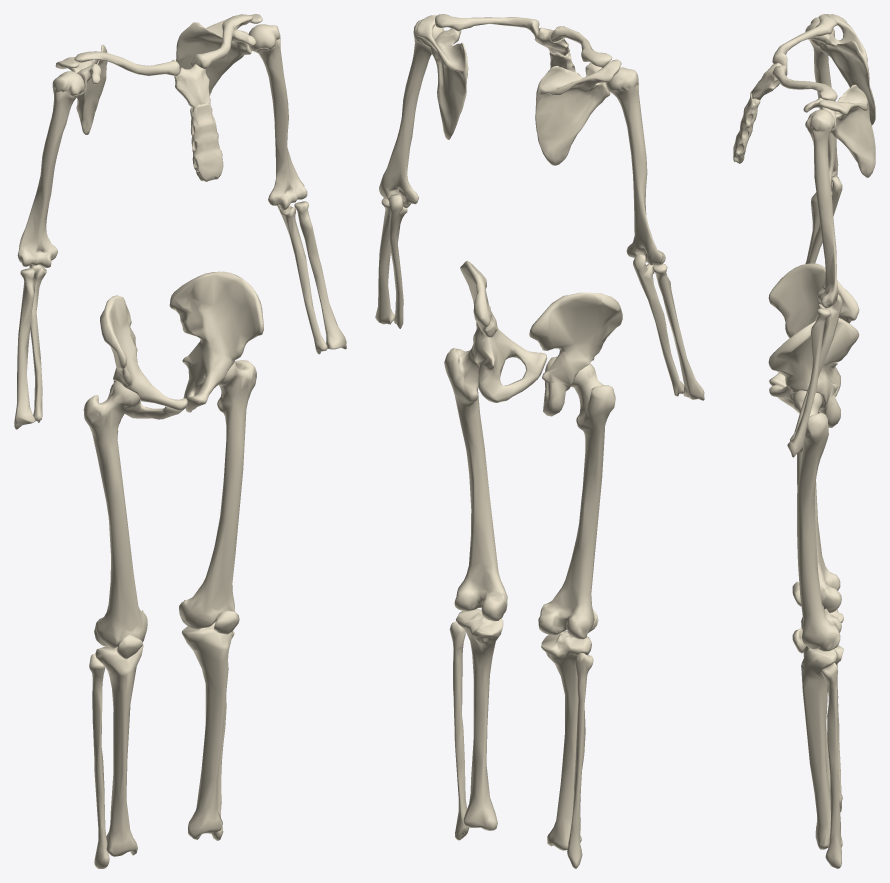
Rendered from zanatomy-limbbones.glb.
3 views of the same model, side by side, from view 1: azimuth 30°, elevation 25°; view 2: azimuth 150°, elevation 25°; view 3: azimuth 270°, elevation 25° (orthographic). The views are drawn at different scales.
Parts seen in each view (by area): view 1: za_hipbone_1, za_femur_2, za_femur_1, za_tibia_1, za_tibia_2, za_humerus_2, za_hipbone_2, za_humerus_1, za_scapula_1, za_fibula_2, za_sternum_1, za_radius_2 (+7 smaller); view 2: za_femur_2, za_femur_1, za_hipbone_2, za_scapula_2, za_tibia_1, za_hipbone_1, za_tibia_2, za_humerus_2, za_humerus_1, za_scapula_1, za_fibula_1, za_fibula_2 (+6 smaller); view 3: za_femur_1, za_hipbone_1, za_tibia_1, za_hipbone_2, za_humerus_1, za_scapula_1, za_scapula_2, za_fibula_1, za_radius_1, za_femur_2, za_humerus_2, za_ulna_1 (+7 smaller).
Boxes of the visible parts, x1=… form: za_hipbone_1: x1=169, y1=271, x2=263, y2=412; za_femur_2: x1=83, y1=381, x2=147, y2=648; za_femur_1: x1=179, y1=360, x2=256, y2=628; za_tibia_1: x1=181, y1=621, x2=232, y2=839; za_tibia_2: x1=95, y1=645, x2=143, y2=856; za_humerus_2: x1=17, y1=71, x2=84, y2=267; za_hipbone_2: x1=100, y1=295, x2=187, y2=419; za_humerus_1: x1=248, y1=24, x2=307, y2=210; za_scapula_1: x1=176, y1=14, x2=262, y2=95; za_fibula_2: x1=89, y1=654, x2=109, y2=868; za_sternum_1: x1=190, y1=102, x2=223, y2=181; za_radius_2: x1=14, y1=268, x2=35, y2=429; za_femur_2: x1=538, y1=363, x2=615, y2=639; za_femur_1: x1=444, y1=344, x2=507, y2=621; za_hipbone_2: x1=529, y1=292, x2=622, y2=416; za_scapula_2: x1=535, y1=59, x2=621, y2=165; za_tibia_1: x1=456, y1=609, x2=503, y2=830; za_hipbone_1: x1=460, y1=260, x2=547, y2=402; za_tibia_2: x1=541, y1=631, x2=591, y2=850; za_humerus_2: x1=606, y1=67, x2=665, y2=265; za_humerus_1: x1=379, y1=19, x2=444, y2=207; za_scapula_1: x1=416, y1=15, x2=468, y2=139; za_fibula_1: x1=449, y1=621, x2=468, y2=840; za_fibula_2: x1=567, y1=653, x2=593, y2=868; za_femur_1: x1=792, y1=390, x2=841, y2=651; za_hipbone_1: x1=768, y1=318, x2=859, y2=427; za_tibia_1: x1=801, y1=645, x2=843, y2=849; za_hipbone_2: x1=768, y1=263, x2=859, y2=396; za_humerus_1: x1=805, y1=109, x2=838, y2=308; za_scapula_1: x1=803, y1=84, x2=875, y2=177; za_scapula_2: x1=808, y1=14, x2=875, y2=125; za_fibula_1: x1=821, y1=662, x2=841, y2=868; za_radius_1: x1=787, y1=307, x2=830, y2=457; za_femur_2: x1=797, y1=452, x2=841, y2=612; za_humerus_2: x1=805, y1=17, x2=838, y2=190; za_ulna_1: x1=790, y1=294, x2=842, y2=440.
Bounding box in the file's own units: 0.5773 × 1.37 × 0.2246.
